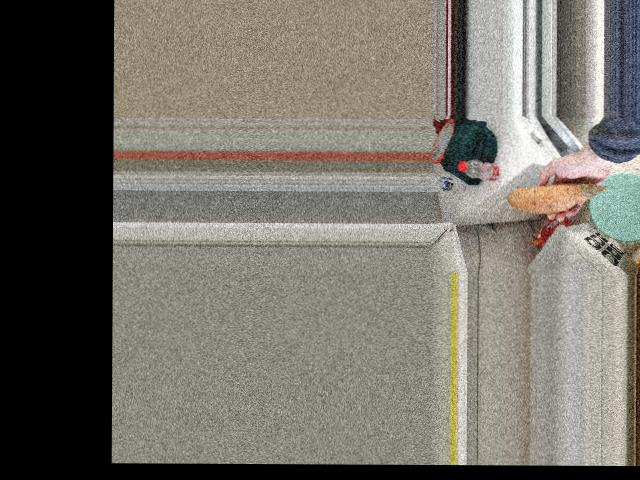sweet_potato: (509, 182, 593, 216)
